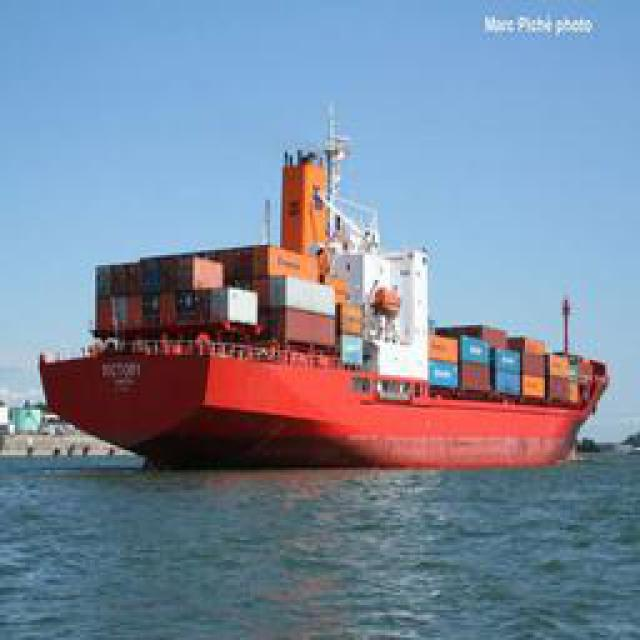Ship: (46, 92, 616, 470)
